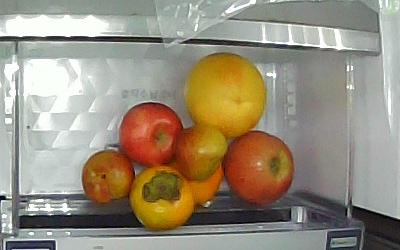apple: (224, 131, 295, 205), (119, 103, 185, 166)
grapefruit: (185, 52, 267, 139)
persimmon: (131, 166, 195, 231), (170, 161, 224, 204)
prune: (82, 149, 135, 205), (178, 125, 228, 182)
